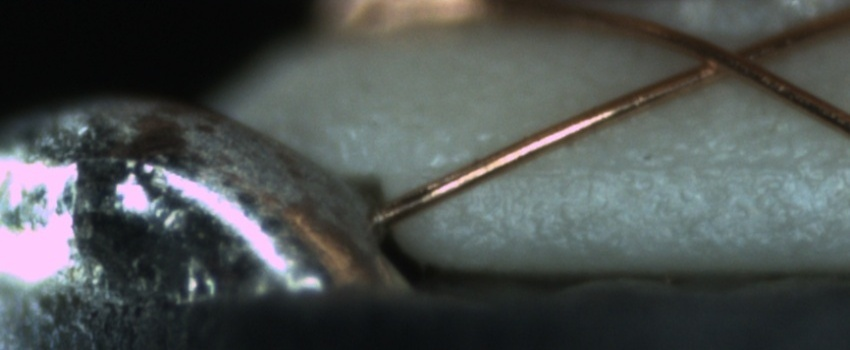CL: (681, 30, 774, 84)
DL: (510, 134, 849, 198)
